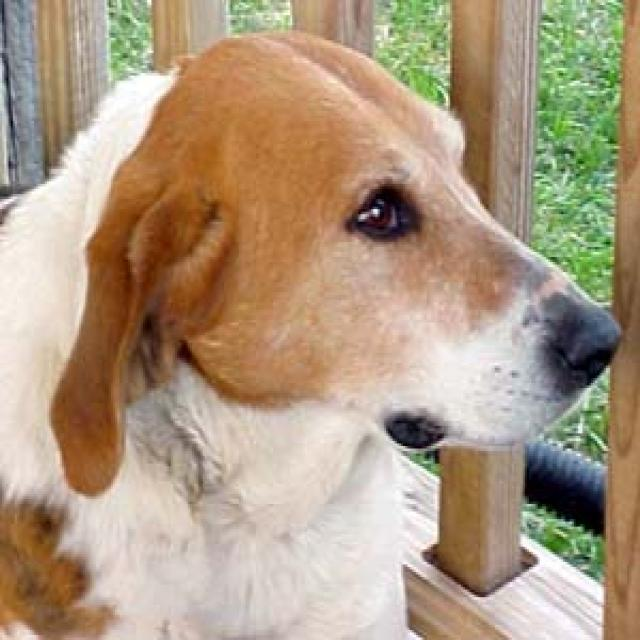dogs: (0, 30, 624, 640)
